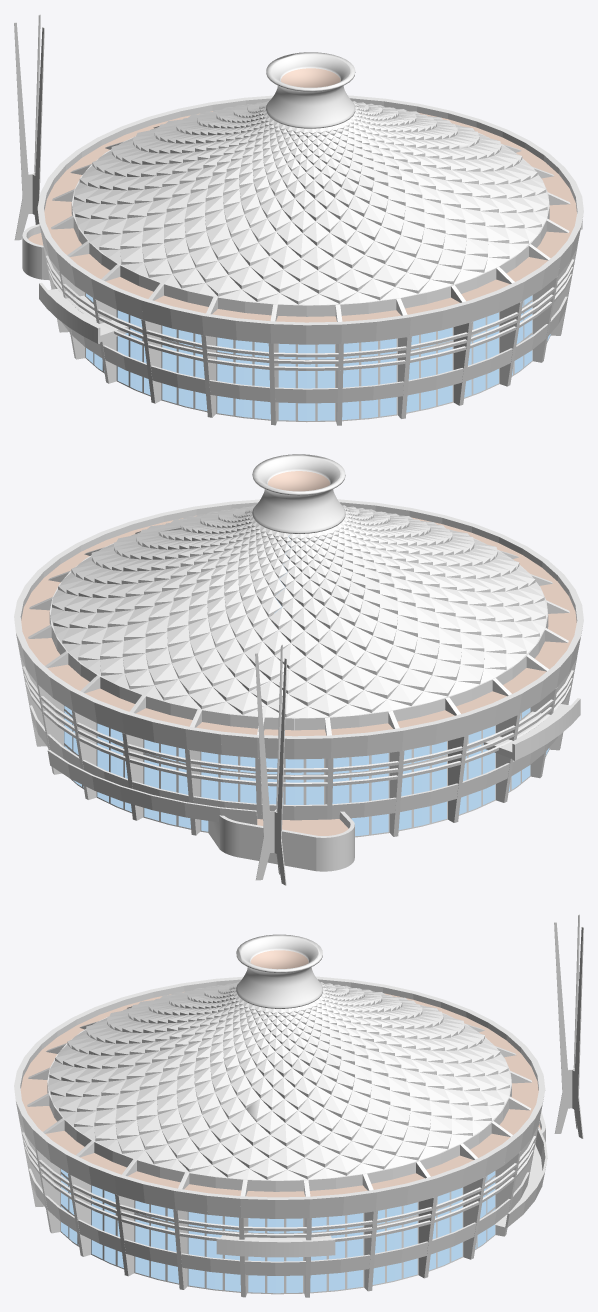
File: circus.glb
The picture shows the model from 3 angles, top to bottom: view 1: azimuth 30°, elevation 25°; view 2: azimuth 150°, elevation 25°; view 3: azimuth 270°, elevation 25°; orthographic projection. The views are drawn at different scales.
Visible parts, largest first — view 1: 164551, 168676, 168677, 168678, 168675, Компонент#1.009, 168679, Компонент#1.031, 168674, Компонент#1.030, Компонент#1.010, 168680 (+47 smaller); view 2: 164551, 154982, 168665, 168666, Компонент#1.017, 168699, 168667, 168698, 154913, Компонент#1.016, 168668, Компонент#5.005 (+47 smaller); view 3: 164551, 168689, 168688, 168690, 168687, Компонент#1.023, Компонент#1.001, 168691, 168686, Компонент#1, 168692, 168685 (+48 smaller).
Boxes of the visible parts, <box> form: 164551: <box>266,52,355,128</box>; 168676: <box>258,128,318,304</box>; 168677: <box>299,128,357,305</box>; 168678: <box>316,127,394,303</box>; 168675: <box>218,127,303,302</box>; Компонент#1.009: <box>368,298,410,418</box>; 168679: <box>324,126,429,300</box>; Компонент#1.031: <box>202,296,245,418</box>; 168674: <box>182,126,295,296</box>; Компонент#1.030: <box>270,304,306,425</box>; Компонент#1.010: <box>306,304,341,425</box>; 168680: <box>332,124,461,293</box>; 164551: <box>252,454,345,533</box>; 154982: <box>208,811,354,871</box>; 168665: <box>286,533,347,718</box>; 168666: <box>305,533,386,716</box>; Компонент#1.017: <box>359,711,403,836</box>; 168699: <box>202,533,291,714</box>; 168667: <box>313,531,423,712</box>; 168698: <box>164,531,282,709</box>; 154913: <box>244,533,307,717</box>; Компонент#1.016: <box>419,697,468,826</box>; 168668: <box>321,529,455,705</box>; Компонент#5.005: <box>184,709,230,835</box>; 164551: <box>236,934,322,1008</box>; 168689: <box>268,1008,324,1180</box>; 168688: <box>228,1008,286,1179</box>; 168690: <box>285,1008,360,1179</box>; 168687: <box>190,1008,272,1177</box>; Компонент#1.023: <box>174,1172,215,1290</box>; Компонент#1.001: <box>336,1174,377,1291</box>; 168691: <box>293,1006,394,1175</box>; 168686: <box>154,1006,264,1172</box>; Компонент#1: <box>392,1161,437,1281</box>; 168692: <box>300,1005,425,1169</box>; 168685: <box>123,1005,257,1164</box>.
Bounding box in the file's own units: 70.72 × 34.08 × 72.91.
